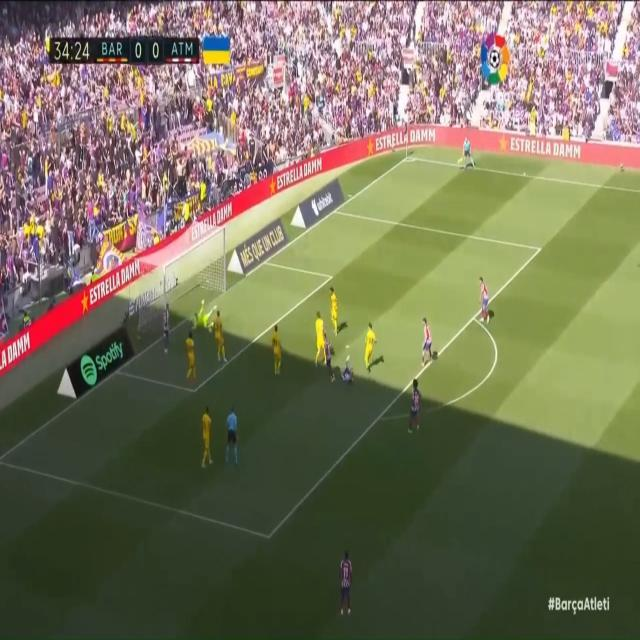ball: (205, 323, 213, 337)
goalkeeper: (190, 289, 216, 339)
player: (335, 539, 360, 628), (198, 400, 216, 475), (404, 365, 421, 443), (360, 316, 382, 371), (267, 319, 286, 379), (477, 267, 494, 331), (326, 283, 344, 340), (311, 308, 328, 368), (320, 333, 336, 393), (419, 308, 434, 369), (184, 329, 200, 385), (214, 306, 229, 365), (161, 299, 174, 359), (339, 351, 356, 391)
referee: (224, 402, 245, 469), (459, 130, 476, 174)
